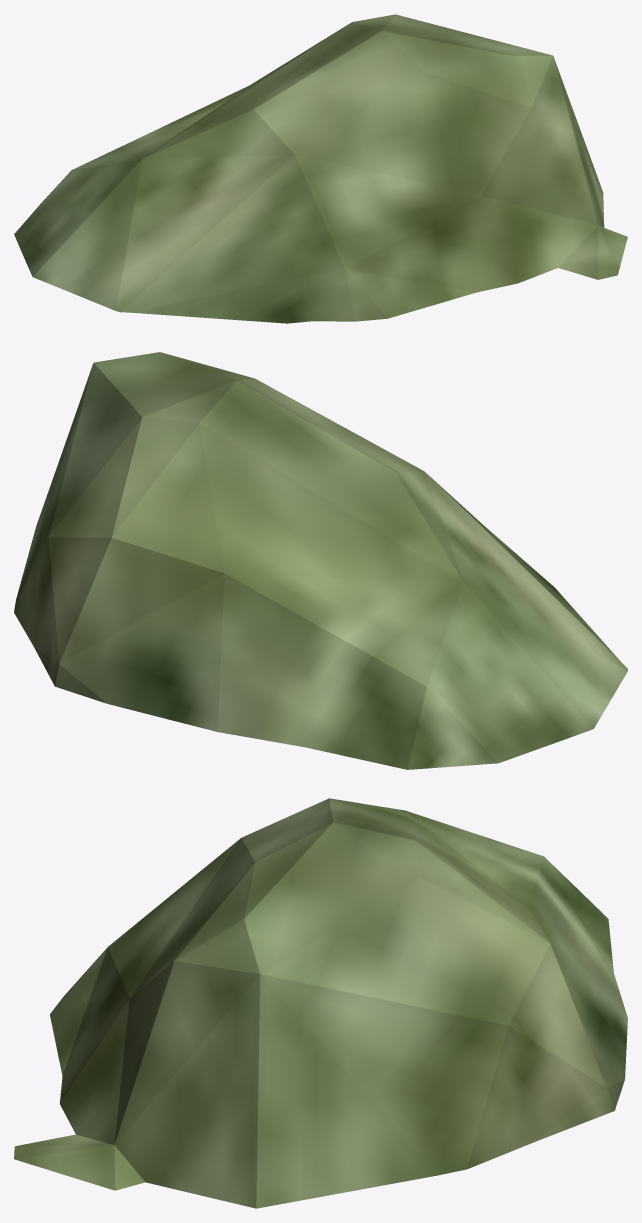
The picture shows the model from 3 angles, top to bottom: view 1: azimuth 30°, elevation 25°; view 2: azimuth 150°, elevation 25°; view 3: azimuth 270°, elevation 25°; orthographic projection. The views are drawn at different scales.
Bounding box in the file's own units: 0.4448 × 0.1553 × 0.336.
Materials: 1 (1 with a texture image).
